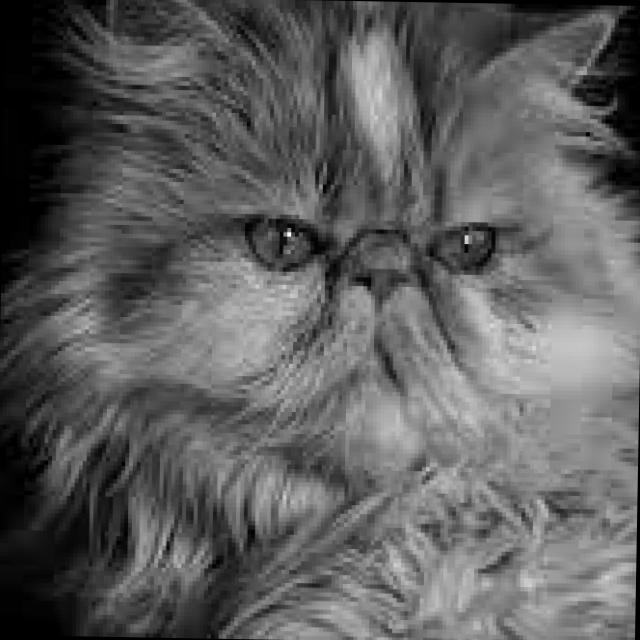iran: (1, 0, 640, 478)
